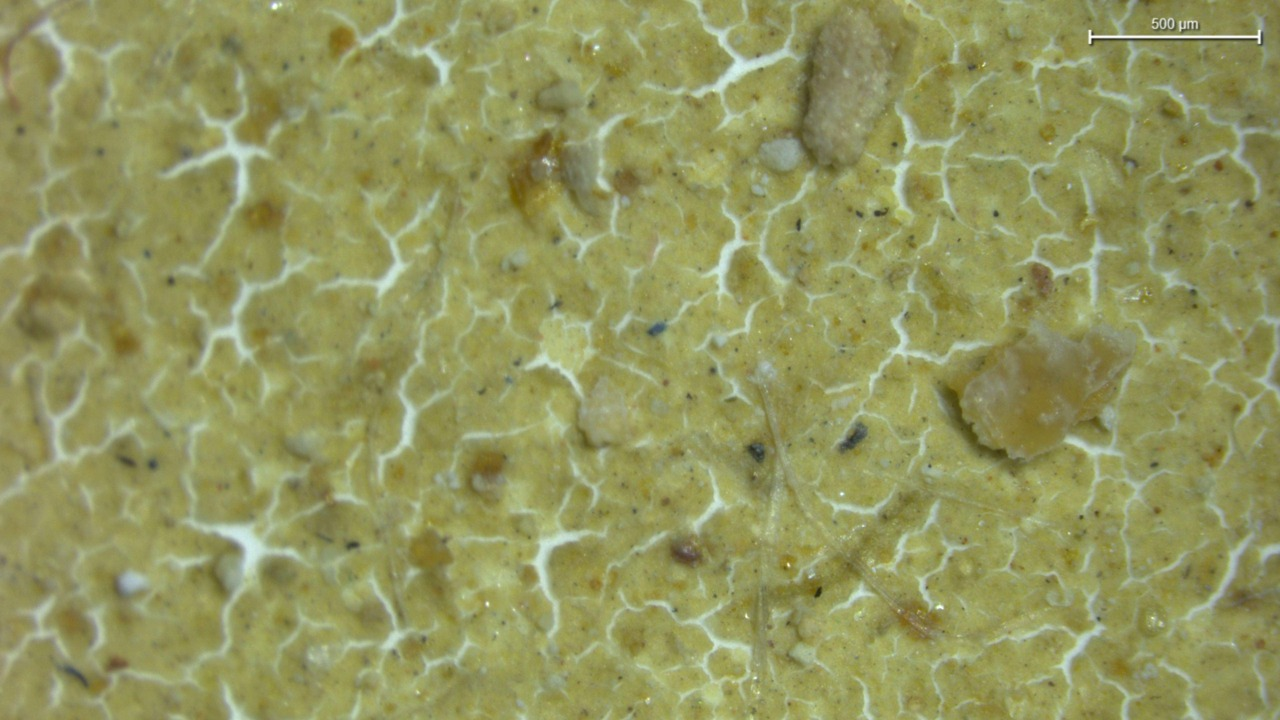microplastic_fragment: (934, 297, 1136, 462), (803, 5, 893, 168), (579, 382, 630, 451), (758, 139, 803, 169), (120, 568, 151, 594)
